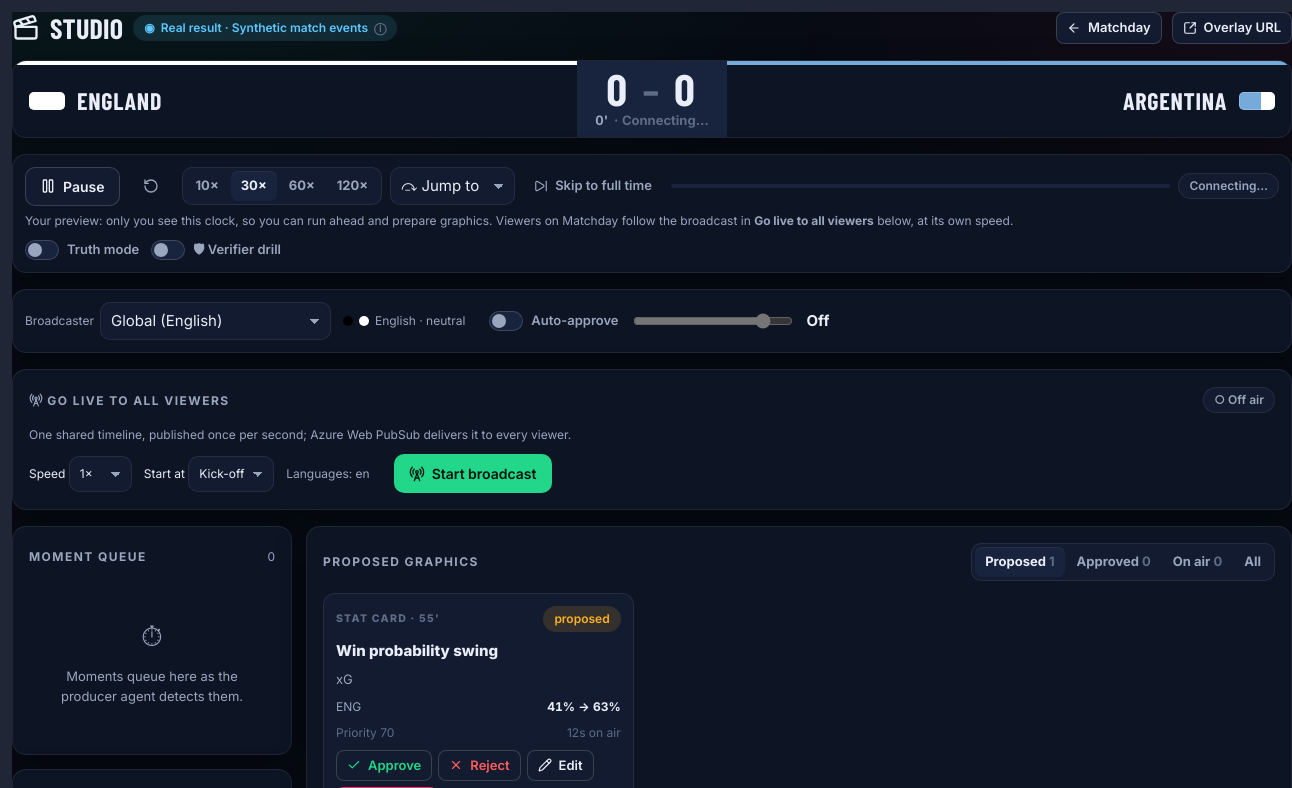
Studio control room › approves a graphic, and shows the API's reason when going on air is blocked
Click the button "Approve": (384, 765) x1=336 y1=750 x2=432 y2=781
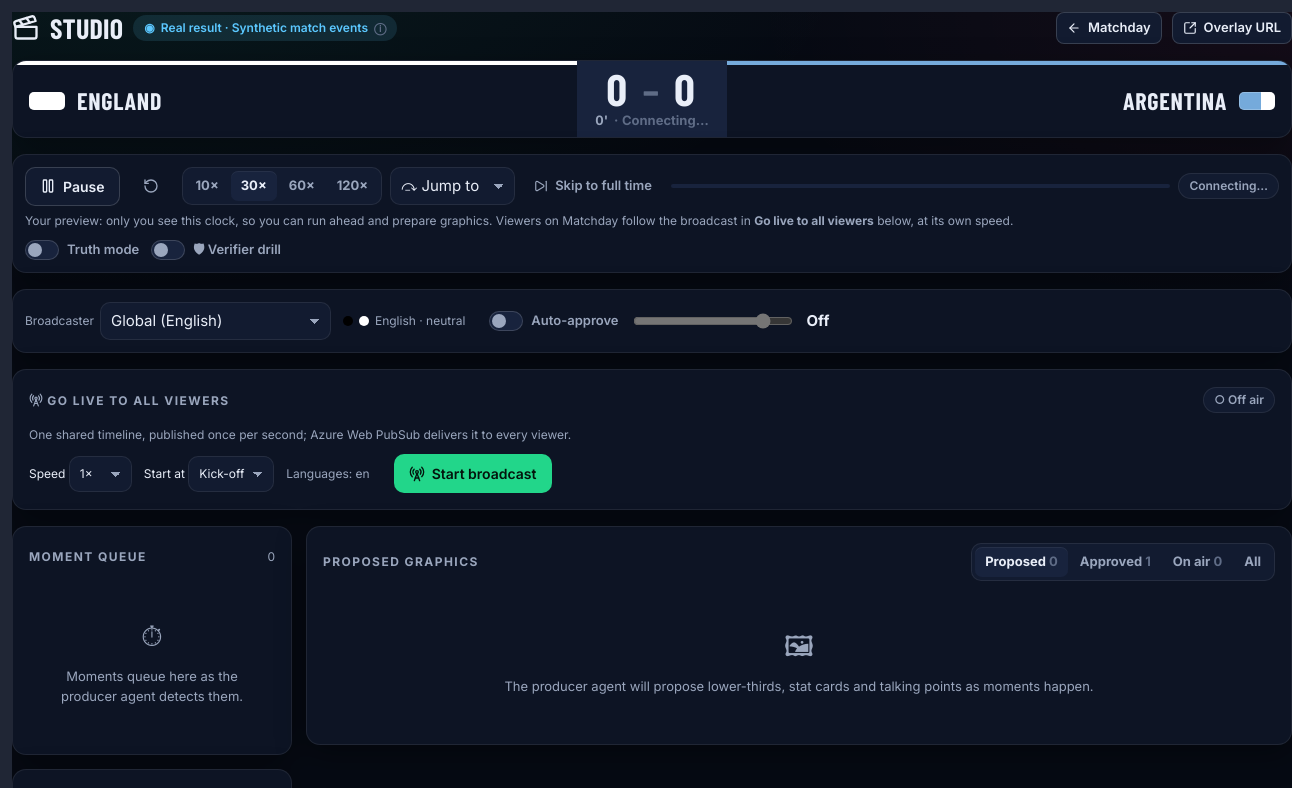
Check: the text "1" is shown, box x1=1145 y1=553 x2=1151 y2=569
Click the tab "Approved 1": (1115, 562) x1=1070 y1=547 x2=1161 y2=577
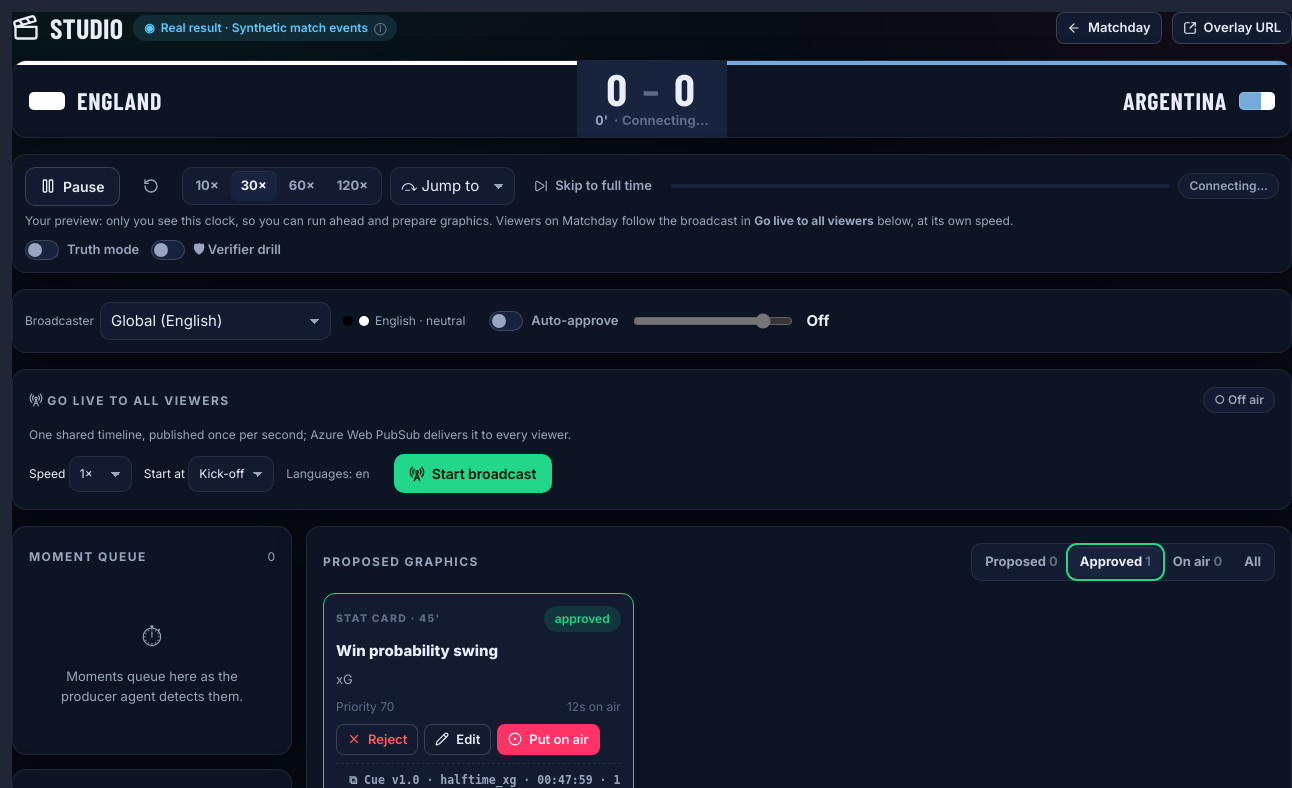
Check: the text "approved" is shown, box x1=544 y1=606 x2=621 y2=632
Click the button "Put on air": (548, 739) x1=497 y1=724 x2=600 y2=755
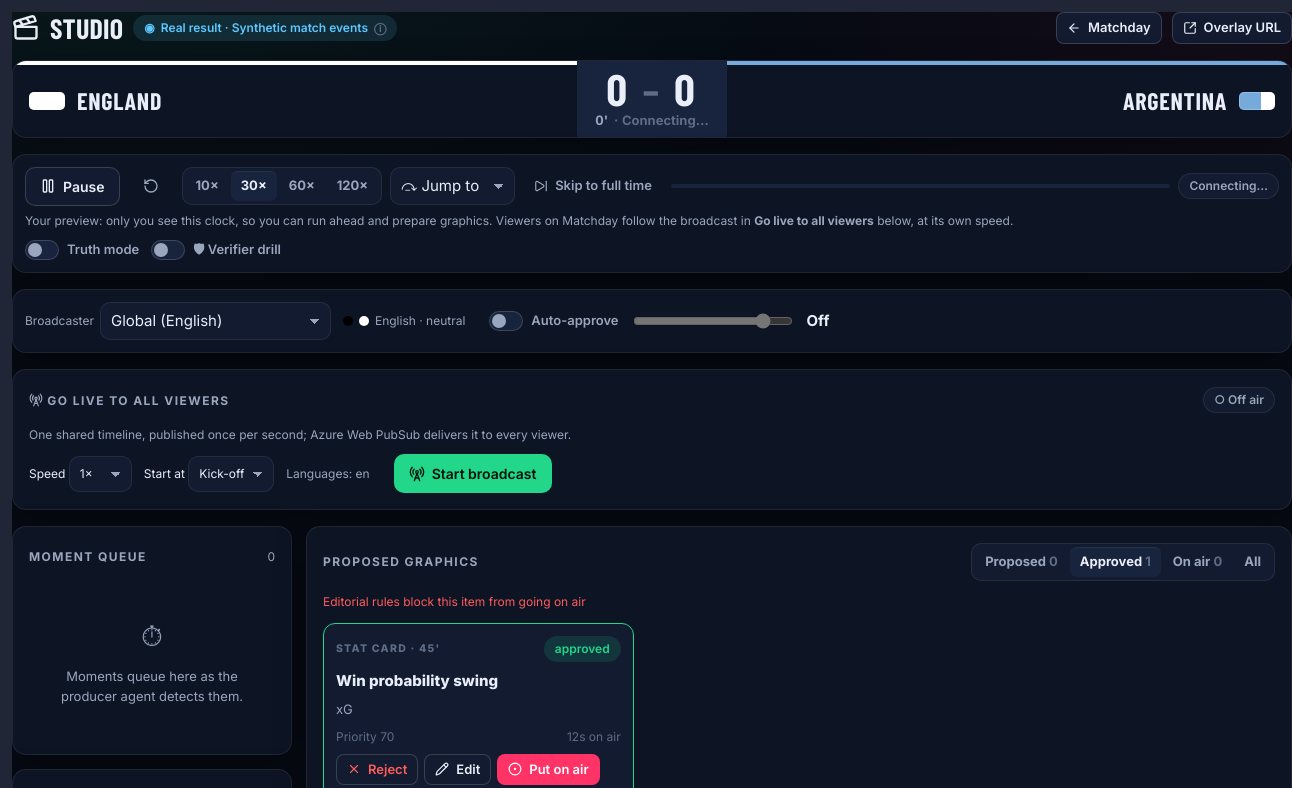
Check: the text "Editorial rules block this item from going on air" is shown, box x1=323 y1=594 x2=586 y2=609
